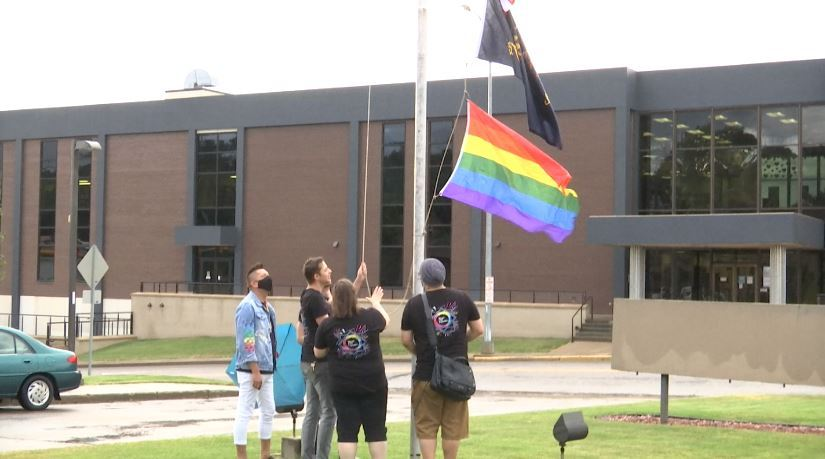Flag: (437, 93, 582, 249), (451, 1, 568, 152)
